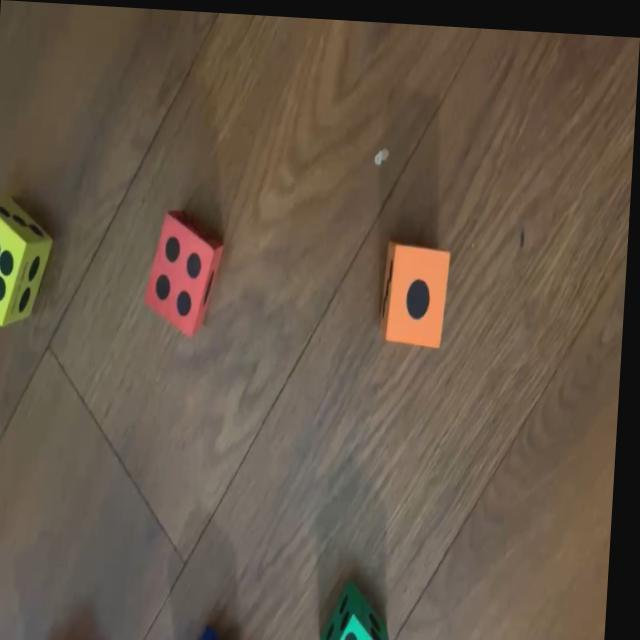red_block: (148, 207, 227, 334)
